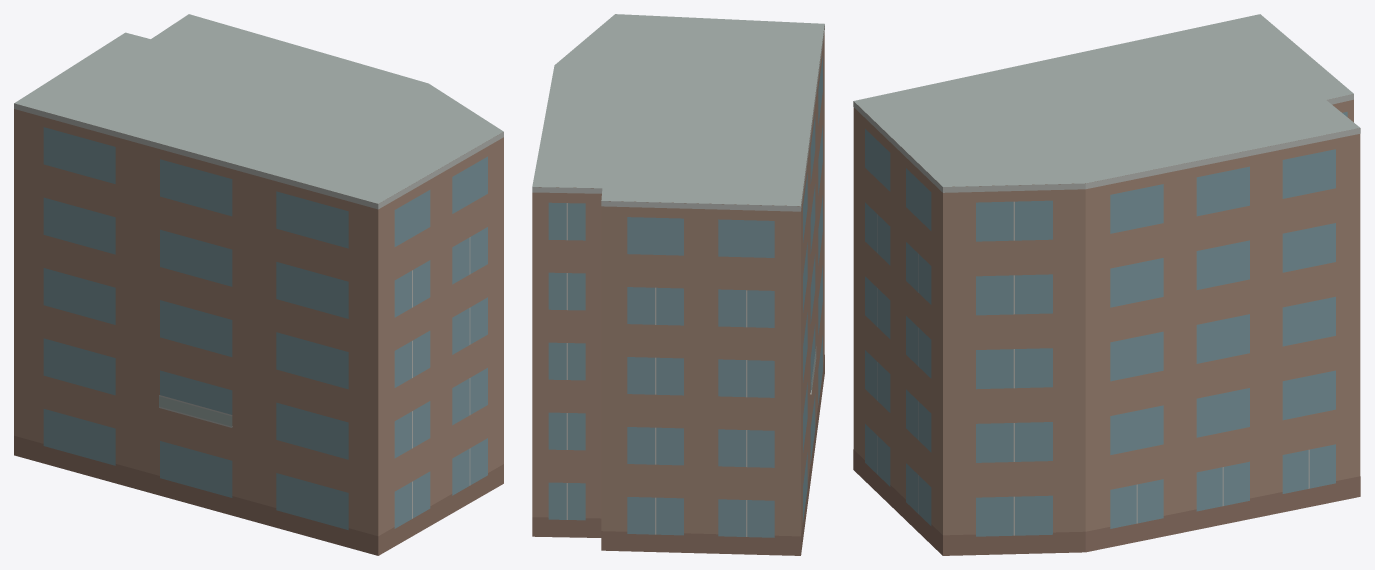
File: survey-upis-32490644.glb
3 views of the same model, side by side, from view 1: azimuth 30°, elevation 25°; view 2: azimuth 150°, elevation 25°; view 3: azimuth 270°, elevation 25° (orthographic). The views are drawn at different scales.
Visible parts, largest first — view 1: survey-upis-32490644.tmp; view 2: survey-upis-32490644.tmp; view 3: survey-upis-32490644.tmp.
Part boxes in pixels (x1,y1,x2,y2): survey-upis-32490644.tmp: (14, 14, 503, 555); survey-upis-32490644.tmp: (532, 14, 824, 555); survey-upis-32490644.tmp: (853, 14, 1360, 555).
Bounding box in the file's own units: 15.5 × 15.4 × 19.19.
